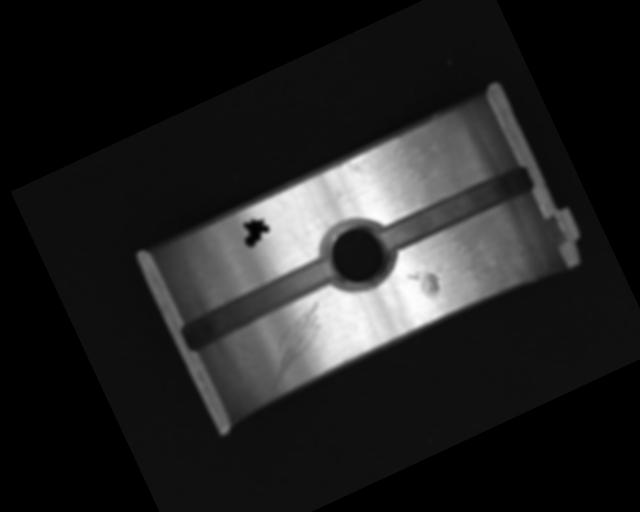blot: (236, 212, 275, 251)
bruise: (406, 261, 445, 301)
gap: (178, 254, 342, 353), (377, 163, 536, 256)
hole: (311, 209, 401, 299)
nick: (249, 301, 344, 391)
